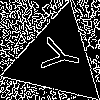Y: (31, 33, 83, 77)
